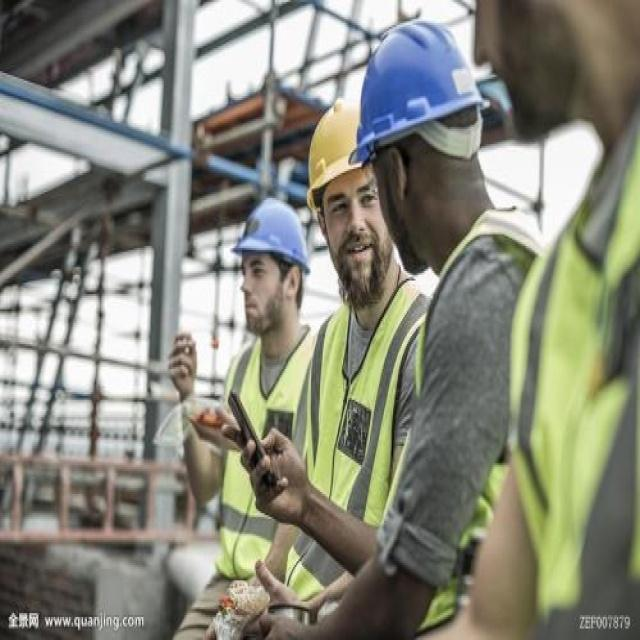helmet: (340, 22, 505, 370), (307, 128, 399, 412), (236, 256, 320, 456)
vest: (480, 165, 640, 640), (298, 381, 435, 640), (212, 439, 317, 640)
